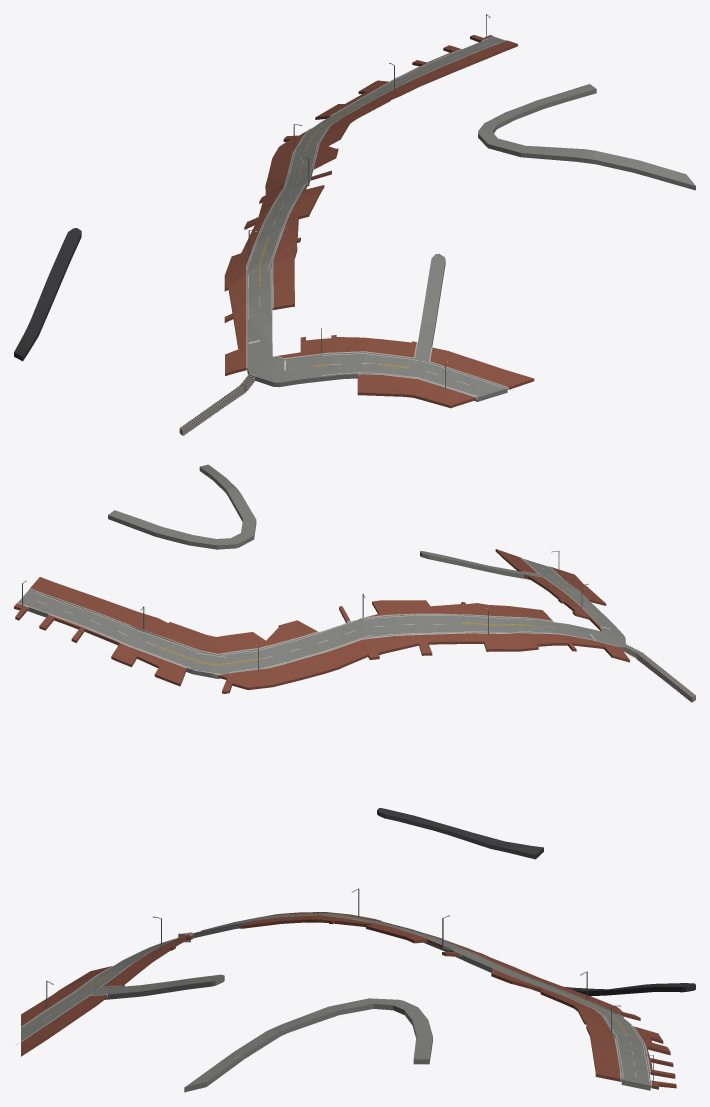
The picture shows the model from 3 angles, top to bottom: view 1: azimuth 30°, elevation 25°; view 2: azimuth 150°, elevation 25°; view 3: azimuth 270°, elevation 25°; orthographic projection. The views are drawn at different scales.
Bounding box in the file's own units: 147 × 52.75 × 146.
